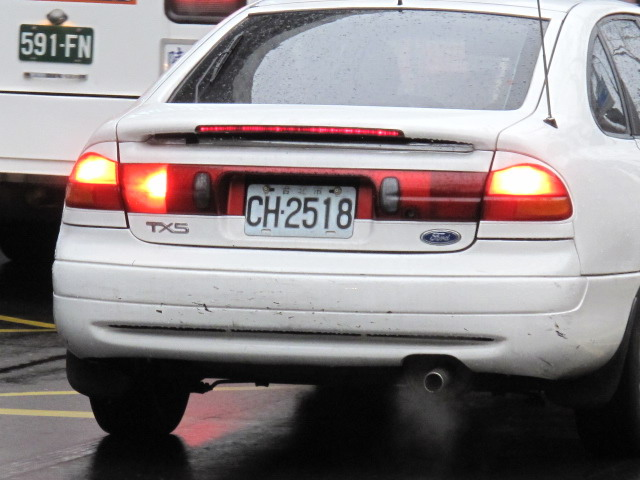plate: (241, 180, 357, 240), (18, 23, 95, 67)
